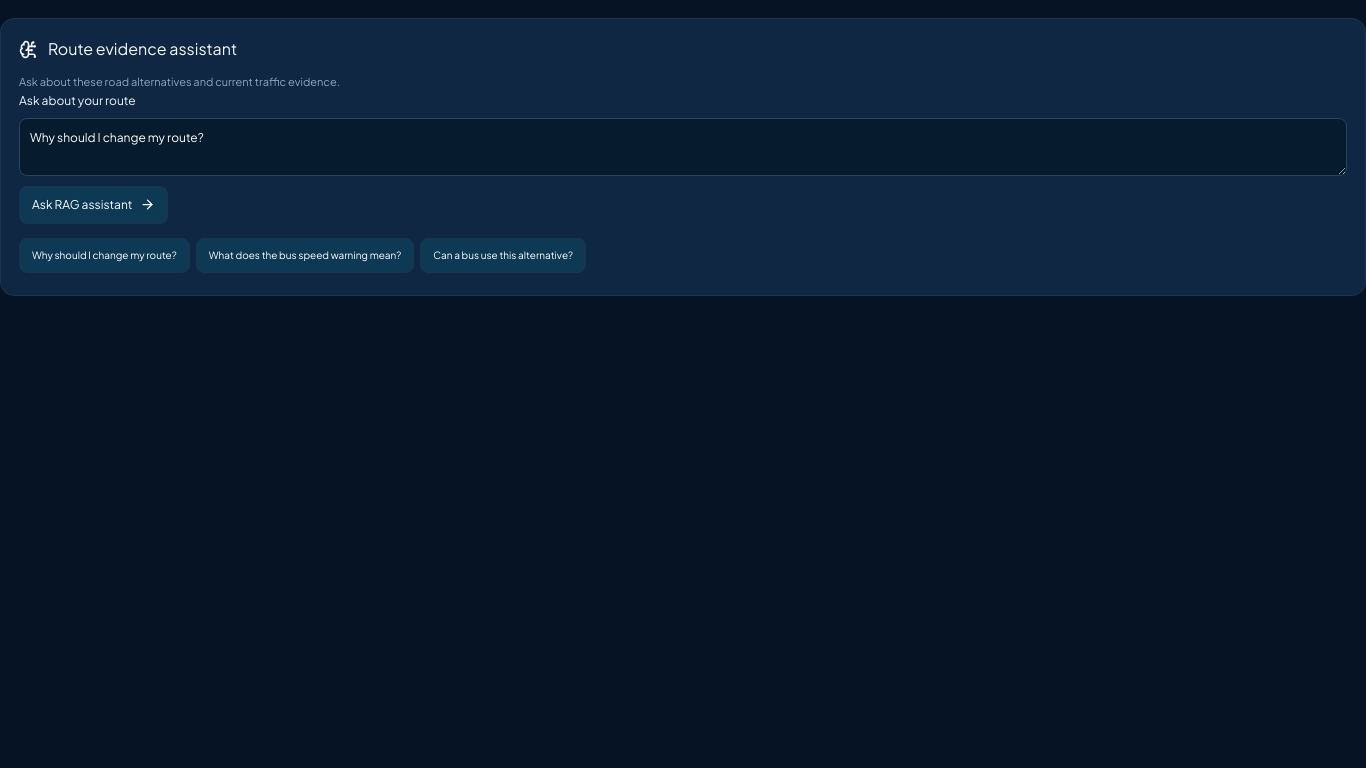
Test: Route RAG evidence UI › an expired traffic answer disables changing the route
Click the button "Ask RAG assistant" at (94, 205), box x1=19 y1=186 x2=168 y2=224
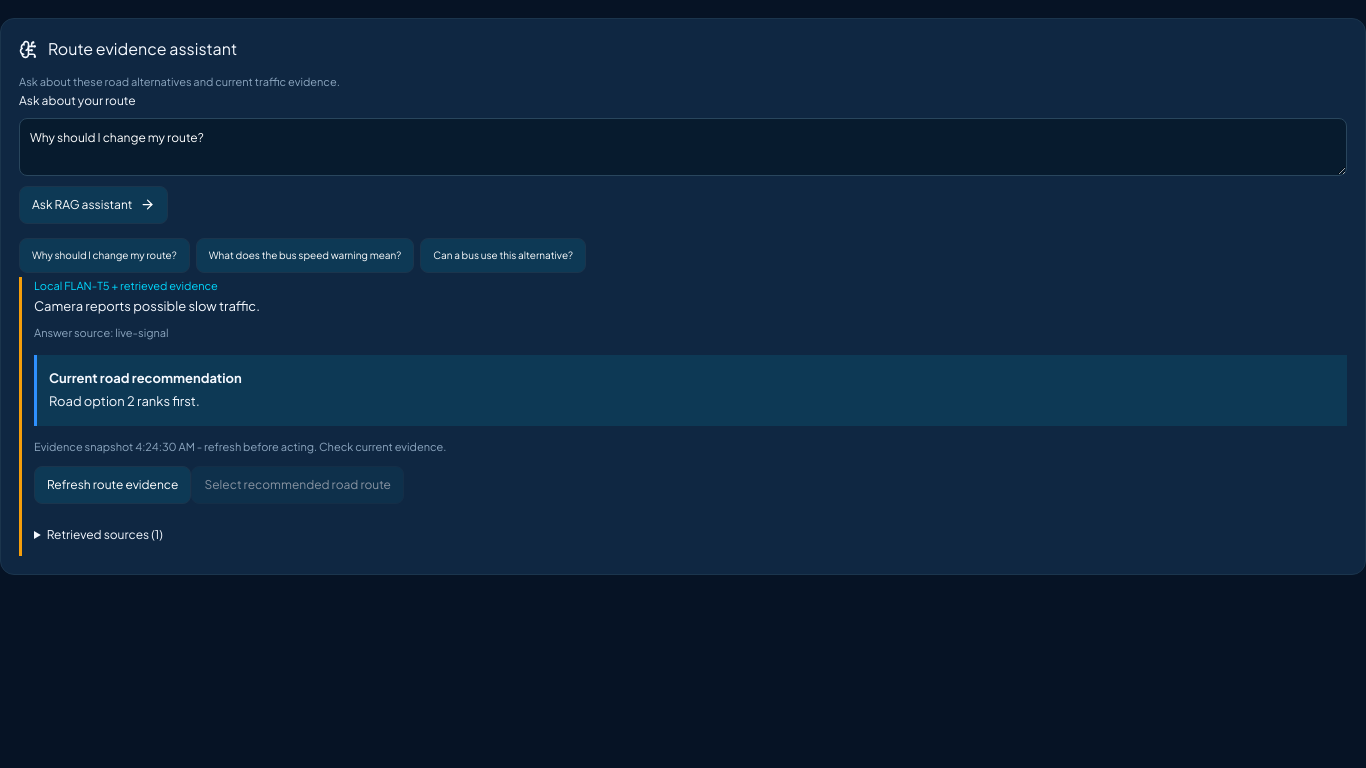
Expected: the button "Refresh route evidence" is shown, x1=34 y1=466 x2=192 y2=504
Expected: the button "Select recommended road route" is disabled, x1=192 y1=466 x2=404 y2=504
